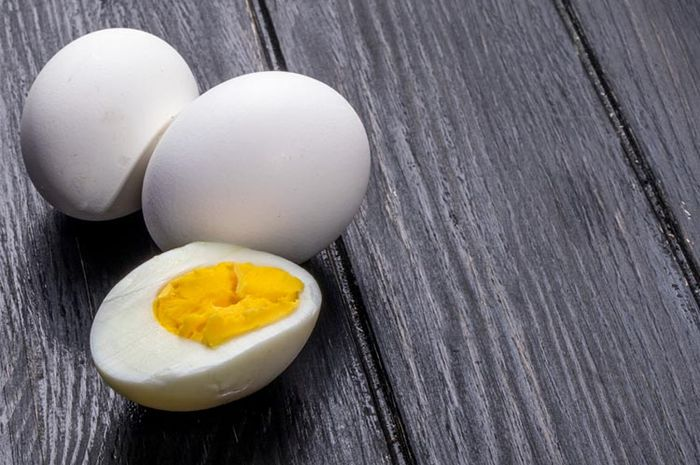Telur: (148, 61, 378, 248), (13, 20, 189, 248), (92, 241, 301, 390)
